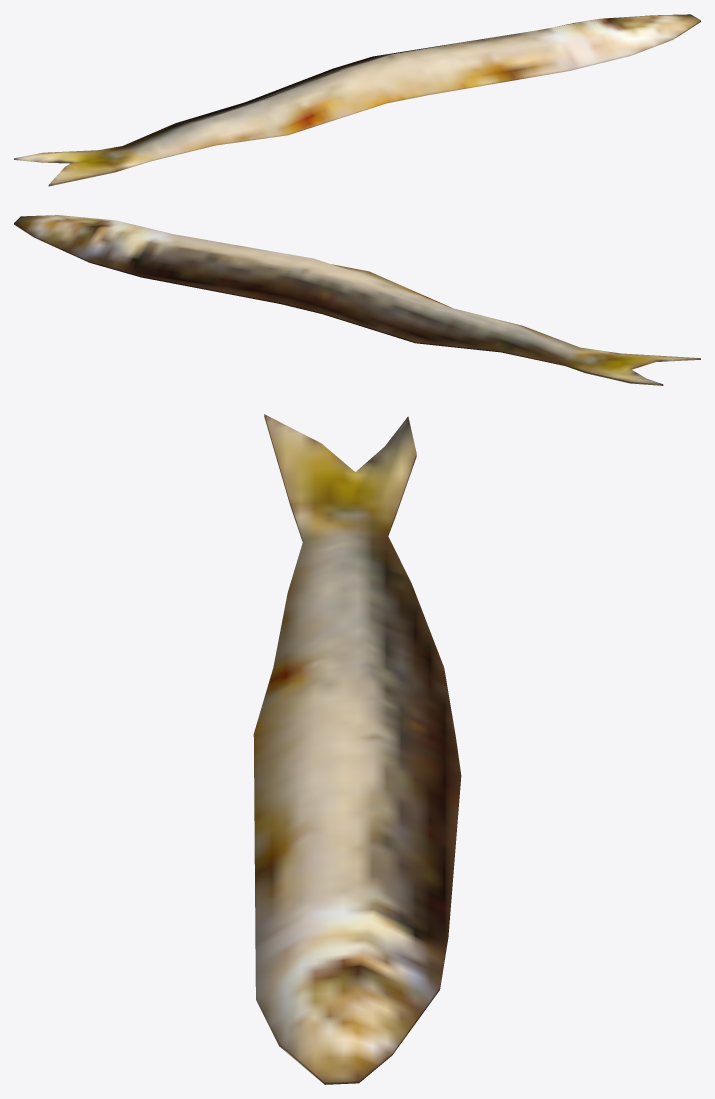
Rendered from dinerfoods11b.fbx.
3 views of the same model, one above another, from view 1: azimuth 30°, elevation 25°; view 2: azimuth 150°, elevation 25°; view 3: azimuth 270°, elevation 25° (orthographic). The views are drawn at different scales.
Parts seen in each view (by area): view 1: dinerfoods11b; view 2: dinerfoods11b; view 3: dinerfoods11b.
Boxes of the visible parts, x1=… form: dinerfoods11b: x1=14, y1=14, x2=700, y2=186; dinerfoods11b: x1=14, y1=215, x2=700, y2=385; dinerfoods11b: x1=253, y1=414, x2=461, y2=1084.
Bounding box in the file's own units: 34.74 × 1.81 × 4.69.
